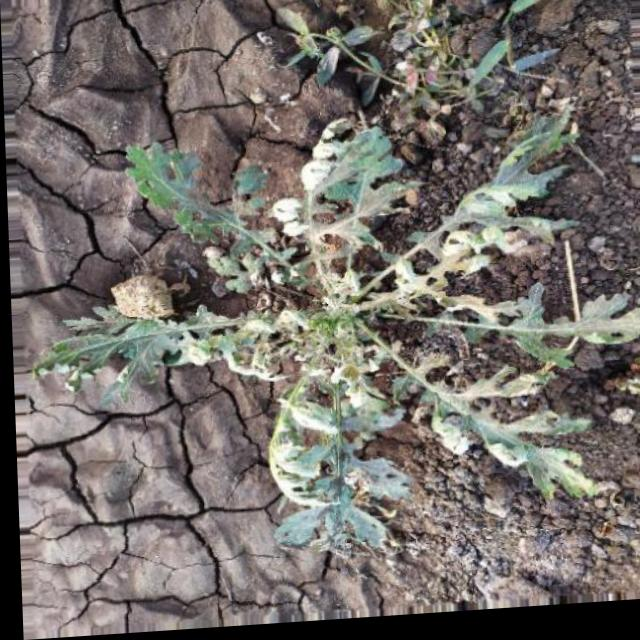weed: (33, 105, 639, 551)
